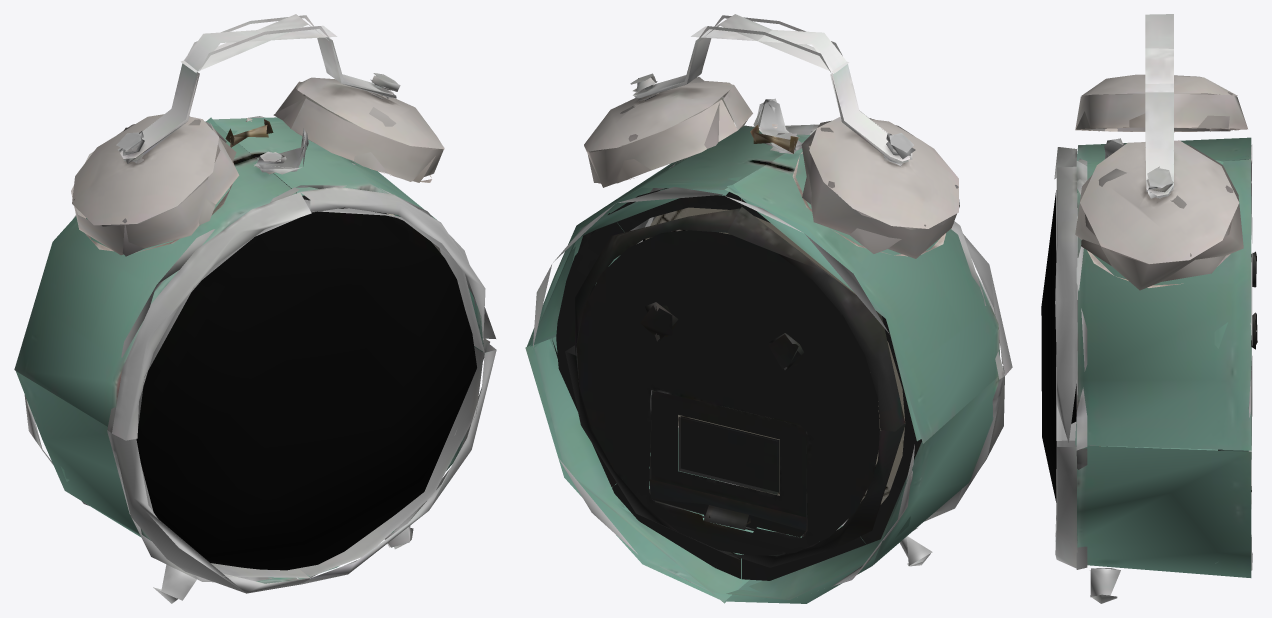
File: alarm_clock_01.glb
3 renders of one model, left to right at view 1: azimuth 30°, elevation 25°; view 2: azimuth 150°, elevation 25°; view 3: azimuth 270°, elevation 25°, orthographic. The views are drawn at different scales.
Parts seen in each view (by area): view 1: alarm_clock_01; view 2: alarm_clock_01; view 3: alarm_clock_01.
Part boxes in pixels (box(x1,y1,x2,y2)): alarm_clock_01: box(14, 14, 496, 603); alarm_clock_01: box(525, 14, 1012, 603); alarm_clock_01: box(1041, 14, 1257, 603).
Bounding box in the file's own units: 0.135 × 0.1763 × 0.0658.
Materials: 2 (2 with a texture image).
